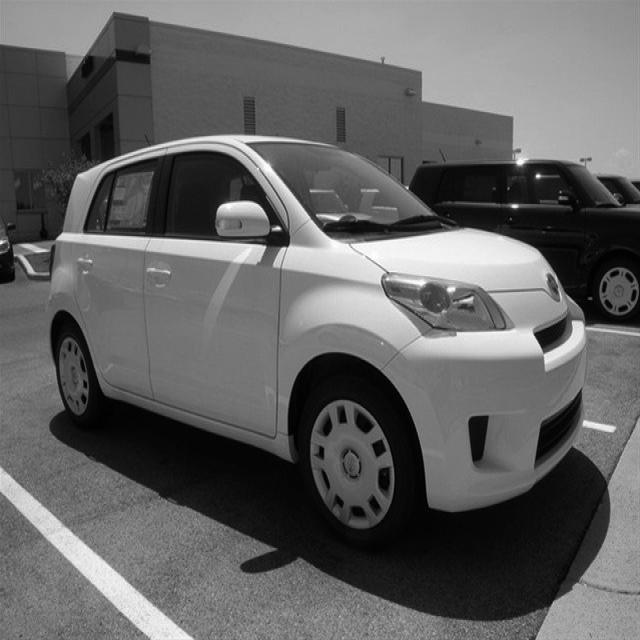car: (46, 132, 588, 551), (407, 157, 639, 323), (0, 211, 16, 281)
